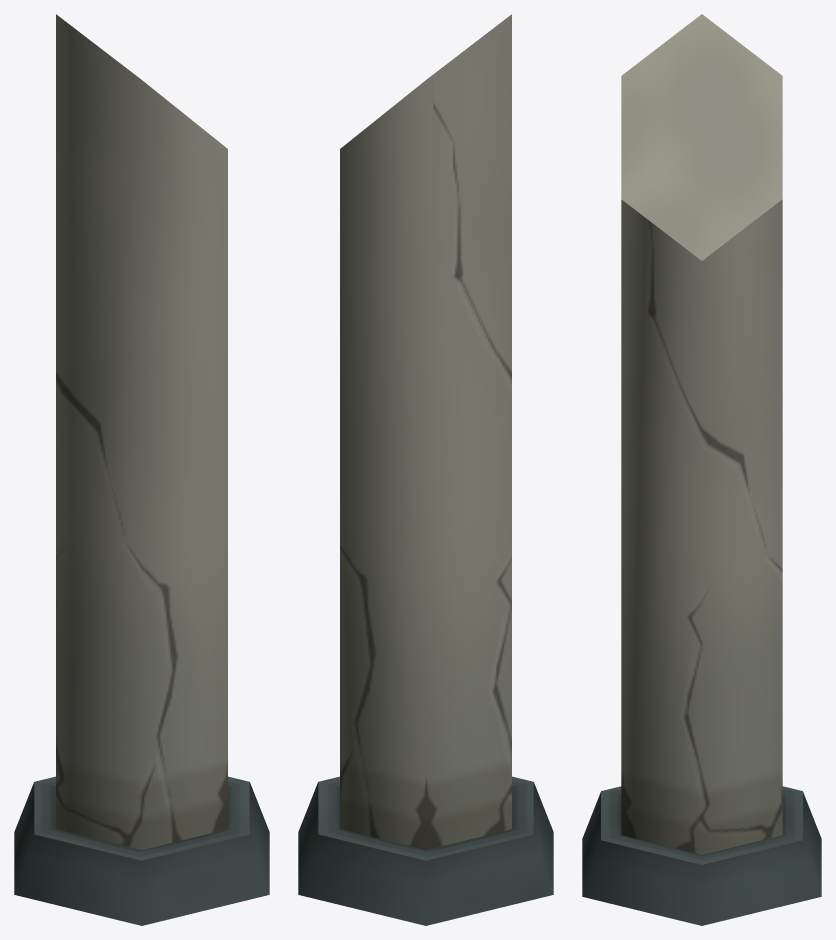
Rendered from Dg_01_pillar_06.FBX.
3 views of the same model, side by side, from view 1: azimuth 30°, elevation 25°; view 2: azimuth 150°, elevation 25°; view 3: azimuth 270°, elevation 25° (orthographic). The views are drawn at different scales.
Visible parts, largest first — view 1: Dg_01_pillar_06; view 2: Dg_01_pillar_06; view 3: Dg_01_pillar_06.
Boxes of the visible parts, bbox=[...] form: Dg_01_pillar_06: bbox=[14, 14, 269, 925]; Dg_01_pillar_06: bbox=[298, 14, 553, 925]; Dg_01_pillar_06: bbox=[582, 14, 821, 925].
Size of the model in its own units: 0.8649 by 2.82 by 0.749.
